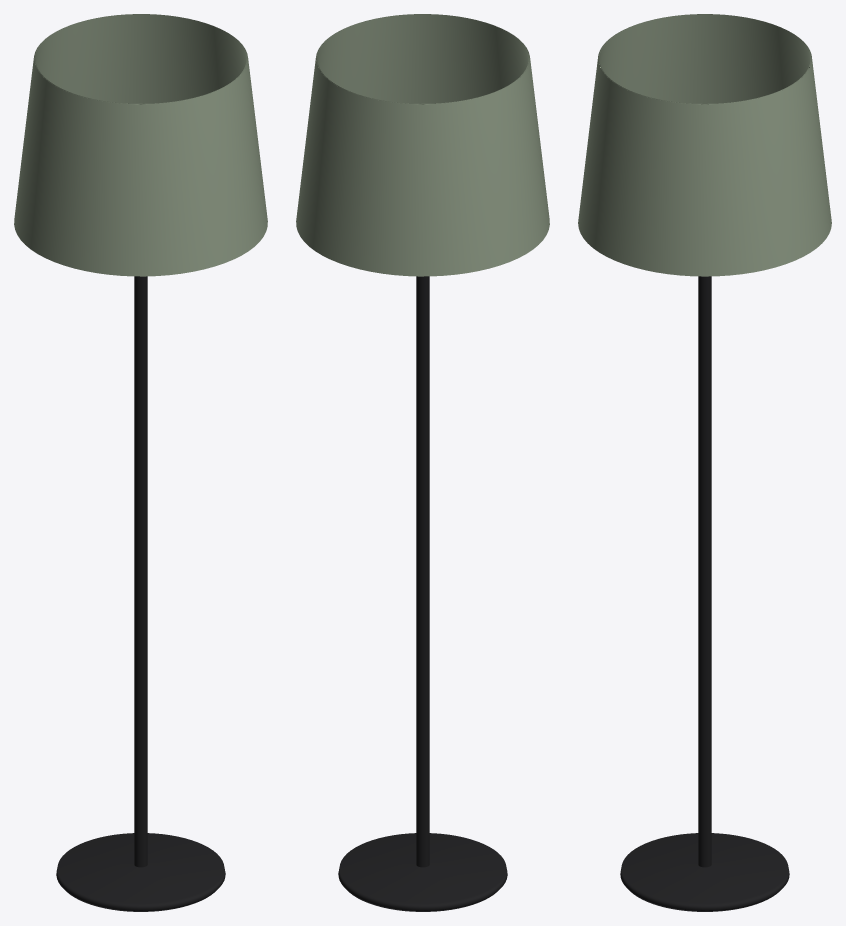
Rendered from sage.glb.
The picture shows the model from 3 angles, left to right: view 1: azimuth 30°, elevation 25°; view 2: azimuth 150°, elevation 25°; view 3: azimuth 270°, elevation 25°; orthographic projection.
Parts seen in each view (by area): view 1: Shade, Base, Pole; view 2: Shade, Base, Pole; view 3: Shade, Base, Pole.
Boxes of the visible parts, x1,y1,x2,y2 form: Shade: (14, 14, 267, 276); Base: (56, 833, 225, 911); Pole: (134, 276, 147, 867); Shade: (296, 14, 549, 276); Base: (338, 833, 507, 911); Pole: (416, 276, 429, 867); Shade: (578, 14, 831, 276); Base: (620, 833, 789, 911); Pole: (698, 276, 711, 867).
Bounding box in the file's own units: 0.45 × 1.6 × 0.45.
